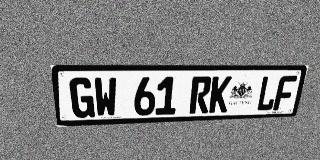1: (155, 77, 178, 115)
6: (134, 77, 156, 116)
F: (273, 76, 297, 110)
G: (69, 77, 95, 118)
K: (208, 76, 232, 113)
L: (255, 76, 280, 111)
R: (189, 76, 212, 114)
W: (93, 77, 117, 117)
